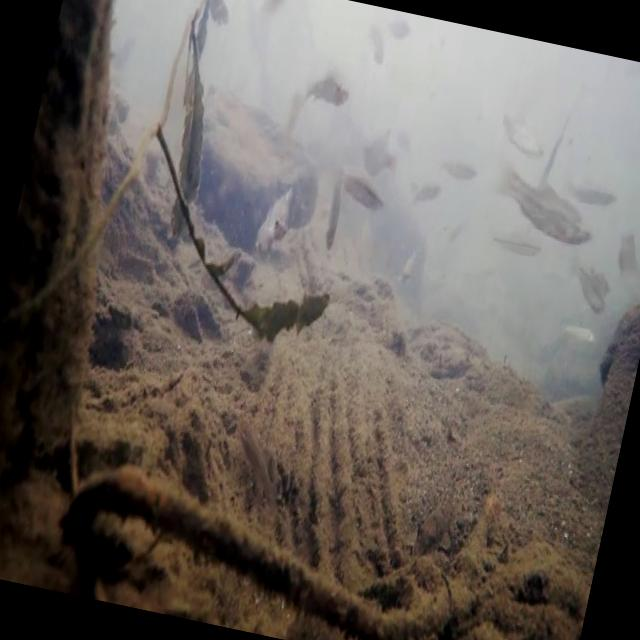Cakil Baligi: (496, 161, 595, 250), (302, 48, 354, 115), (336, 162, 387, 218), (434, 143, 482, 189), (318, 180, 346, 249), (409, 161, 445, 214), (356, 16, 392, 67)
